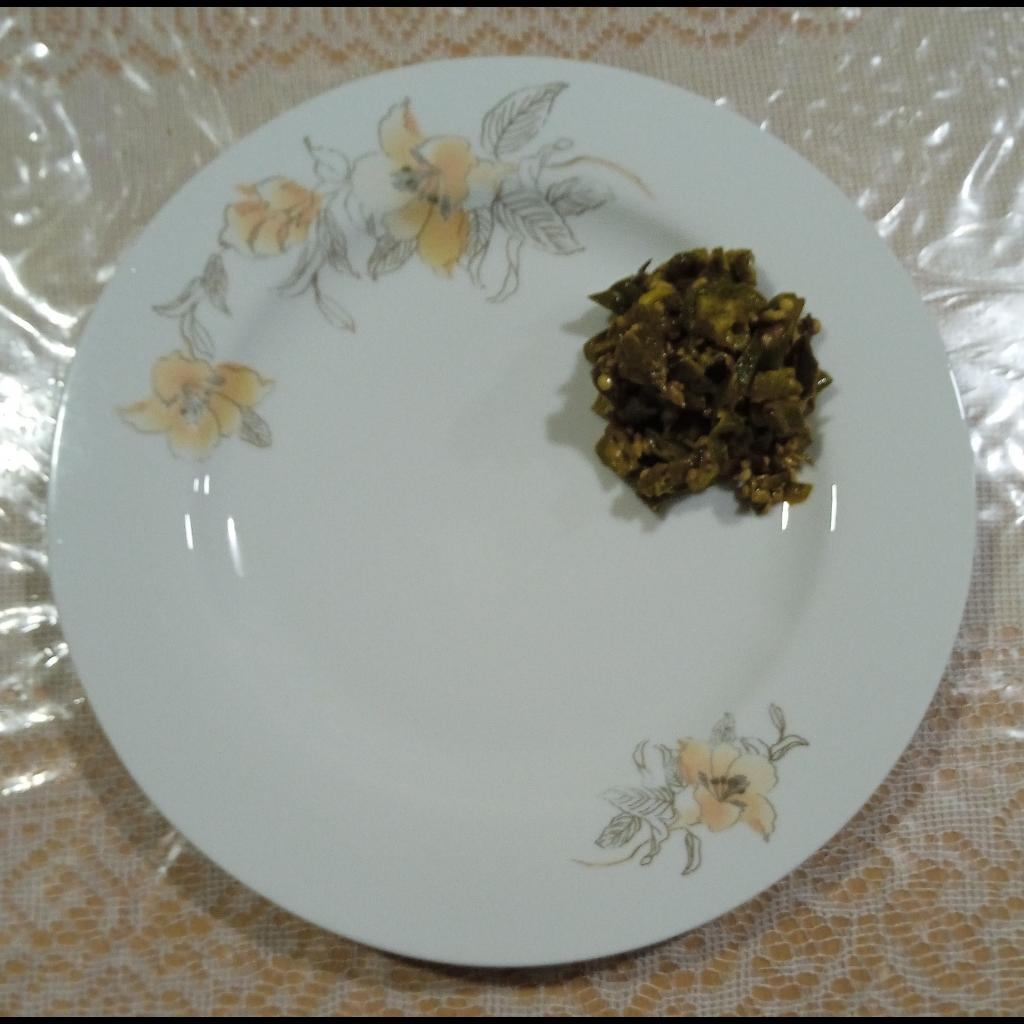okra: (579, 245, 835, 518)
